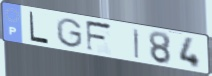4: (177, 36, 204, 71)
8: (148, 30, 174, 66)
F: (85, 19, 115, 54)
G: (54, 17, 84, 49)
I: (132, 27, 141, 60)
L: (29, 11, 51, 46)
